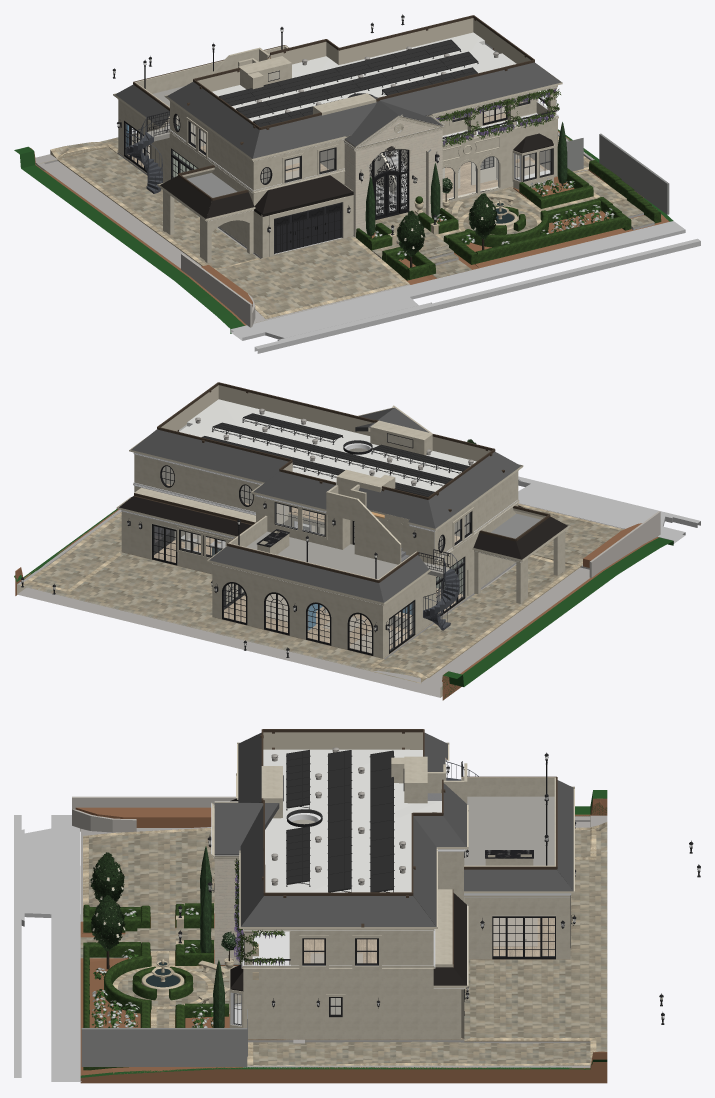
The model's file is exterior-house-cb1b74ca6f73.glb.
3 renders of one model, top to bottom at view 1: azimuth 30°, elevation 25°; view 2: azimuth 150°, elevation 25°; view 3: azimuth 270°, elevation 25°, orthographic. The views are drawn at different scales.
Parts seen in each view (by area): view 1: exterior-house-2097c6bf0b01330b, exterior-house-b5dfe7249a3eb059, exterior-house-e7e6fa835f441169, exterior-house-27d577fbd7f2ff4b, exterior-house-aee2d046b0172b1e, exterior-house-772a07b3069847f0, exterior-house-e33d7b378dc851e2, exterior-house-d56ee2a9d54b1fc2, exterior-house-8ae50a6395ceb8a4, exterior-house-0b9d5d1cd0b2c60f, exterior-house-7cf8e5cfa8b264af, exterior-house-25c3ff3929e46046 (+47 smaller); view 2: exterior-house-37d1b262fca80116, exterior-house-8ae50a6395ceb8a4, exterior-house-d56ee2a9d54b1fc2, exterior-house-27d577fbd7f2ff4b, exterior-house-969b861f9850351e, exterior-house-aee2d046b0172b1e, exterior-house-c91f911e25c8cae7, exterior-house-5febae1537653d02, exterior-house-b5dfe7249a3eb059, exterior-house-3763e2fb8578d282, exterior-house-2c1fd33d433632d0, exterior-house-0cae3eb2f2d52fad (+40 smaller); view 3: exterior-house-37d1b262fca80116, exterior-house-aee2d046b0172b1e, exterior-house-b5dfe7249a3eb059, exterior-house-d56ee2a9d54b1fc2, exterior-house-2097c6bf0b01330b, exterior-house-2c1fd33d433632d0, exterior-house-07f5bde4319b7ab4, exterior-house-e7e6fa835f441169, exterior-house-a75a0c9c223328ee, exterior-house-ded88bd99590d377, exterior-house-af97eba351c411ae, exterior-house-e706aa16b4547c37 (+54 smaller).
Boxes of the visible parts, x1=… form: exterior-house-2097c6bf0b01330b: x1=216, y1=236, x2=409, y2=318; exterior-house-b5dfe7249a3eb059: x1=230, y1=221, x2=685, y2=340; exterior-house-e7e6fa835f441169: x1=356, y1=182, x2=625, y2=280; exterior-house-27d577fbd7f2ff4b: x1=57, y1=147, x2=260, y2=269; exterior-house-aee2d046b0172b1e: x1=14, y1=129, x2=673, y2=333; exterior-house-772a07b3069847f0: x1=254, y1=238, x2=700, y2=353; exterior-house-e33d7b378dc851e2: x1=380, y1=62, x2=560, y2=115; exterior-house-d56ee2a9d54b1fc2: x1=212, y1=32, x2=516, y2=121; exterior-house-8ae50a6395ceb8a4: x1=35, y1=132, x2=594, y2=323; exterior-house-0b9d5d1cd0b2c60f: x1=236, y1=51, x2=478, y2=118; exterior-house-7cf8e5cfa8b264af: x1=218, y1=39, x2=461, y2=105; exterior-house-25c3ff3929e46046: x1=253, y1=101, x2=377, y2=158; exterior-house-37d1b262fca80116: x1=20, y1=552, x2=427, y2=683; exterior-house-8ae50a6395ceb8a4: x1=17, y1=503, x2=624, y2=697; exterior-house-d56ee2a9d54b1fc2: x1=181, y1=399, x2=476, y2=491; exterior-house-27d577fbd7f2ff4b: x1=377, y1=555, x2=580, y2=677; exterior-house-969b861f9850351e: x1=212, y1=566, x2=380, y2=657; exterior-house-aee2d046b0172b1e: x1=14, y1=509, x2=673, y2=700; exterior-house-c91f911e25c8cae7: x1=131, y1=429, x2=288, y2=482; exterior-house-5febae1537653d02: x1=209, y1=546, x2=383, y2=602; exterior-house-b5dfe7249a3eb059: x1=518, y1=484, x2=685, y2=543; exterior-house-3763e2fb8578d282: x1=134, y1=454, x2=259, y2=512; exterior-house-2c1fd33d433632d0: x1=28, y1=512, x2=121, y2=589; exterior-house-0cae3eb2f2d52fad: x1=428, y1=451, x2=520, y2=528; exterior-house-37d1b262fca80116: x1=464, y1=822, x2=607, y2=1064; exterior-house-aee2d046b0172b1e: x1=80, y1=790, x2=607, y2=1083; exterior-house-b5dfe7249a3eb059: x1=24, y1=815, x2=81, y2=1081; exterior-house-d56ee2a9d54b1fc2: x1=263, y1=749, x2=441, y2=892; exterior-house-2097c6bf0b01330b: x1=83, y1=828, x2=214, y2=921; exterior-house-2c1fd33d433632d0: x1=247, y1=1041, x2=590, y2=1065; exterior-house-07f5bde4319b7ab4: x1=81, y1=1028, x2=247, y2=1066; exterior-house-e7e6fa835f441169: x1=83, y1=903, x2=228, y2=1027; exterior-house-a75a0c9c223328ee: x1=241, y1=896, x2=436, y2=926; exterior-house-ded88bd99590d377: x1=464, y1=796, x2=554, y2=865; exterior-house-af97eba351c411ae: x1=372, y1=979, x2=461, y2=1038; exterior-house-e706aa16b4547c37: x1=464, y1=897, x2=567, y2=959.
Size of the model in its own units: 31.9 by 8.68 by 35.2.
Materials: 109 (32 with a texture image).
